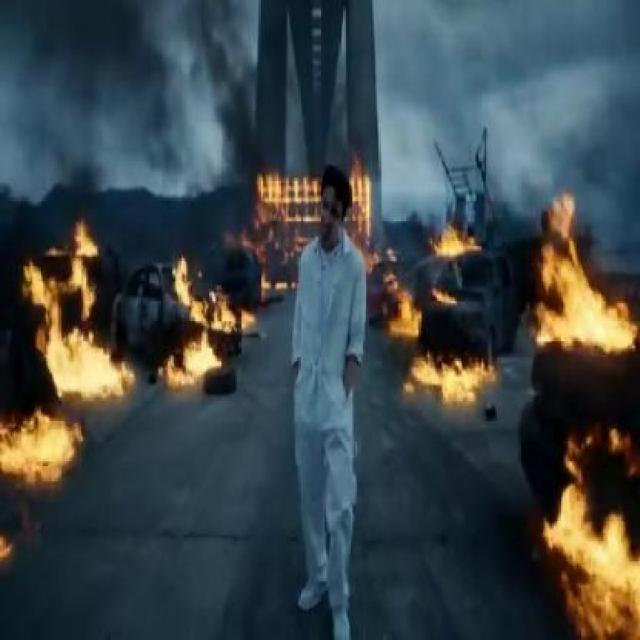fire: (555, 488, 637, 620), (534, 240, 624, 356), (40, 290, 120, 404), (1, 400, 81, 483), (409, 332, 483, 414), (248, 182, 308, 246), (180, 332, 222, 379), (354, 170, 377, 244), (436, 222, 473, 262)
smoke: (2, 2, 170, 204), (398, 11, 500, 211), (504, 54, 628, 211), (174, 2, 278, 175), (282, 7, 391, 160)
